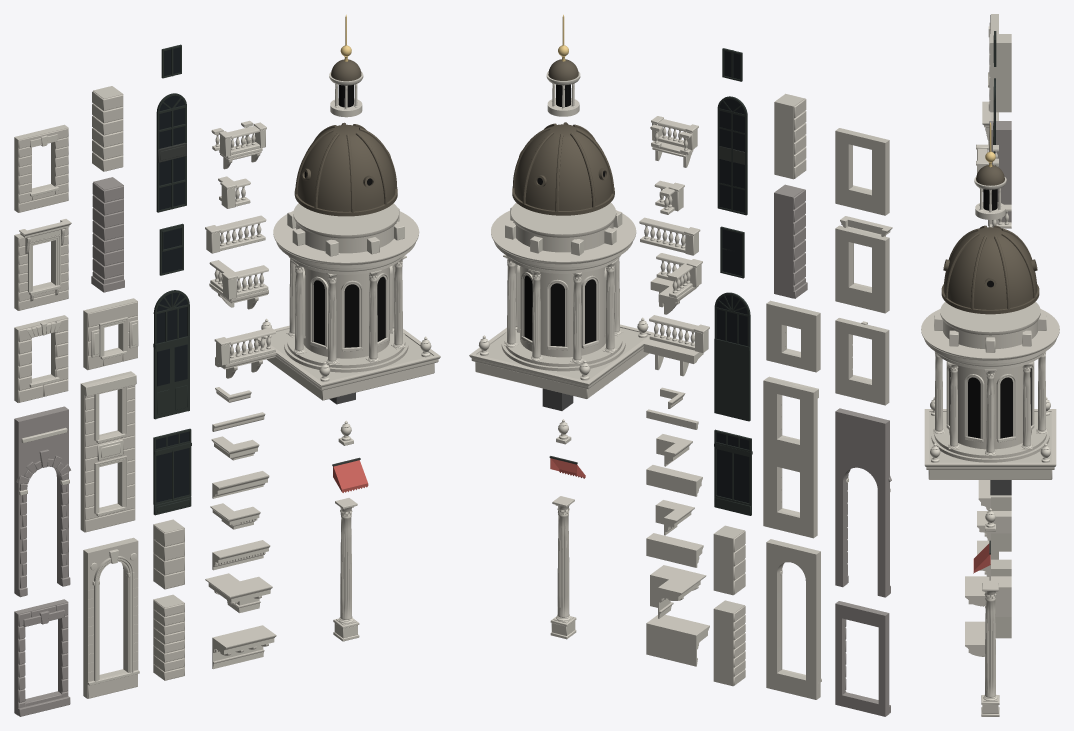
Rendered from gillender_kit.glb.
The picture shows the model from 3 angles, left to right: view 1: azimuth 30°, elevation 25°; view 2: azimuth 150°, elevation 25°; view 3: azimuth 270°, elevation 25°; orthographic projection. The views are drawn at different scales.
Visible parts, largest first — view 1: SM_Tempietto, SM_Dome, SM_Wall_Colonnade_2F, SM_Wall_Ground_Entrance, SM_Wall_Arch_2F, SM_Door_Entrance, SM_Wall_Win_Hood, SM_Wall_Ground_Shop, SM_Pier_Corner_Ground, SM_Wall_Win_Shaft, SM_Window_Arch_2F, SM_Wall_Base_Rustic (+20 smaller); view 2: SM_Tempietto, SM_Dome, SM_Wall_Colonnade_2F, SM_Wall_Ground_Entrance, SM_Wall_Arch_2F, SM_Door_Entrance, SM_Wall_Win_Hood, SM_Wall_Ground_Shop, SM_Pier_Corner_Ground, SM_Wall_Base_Rustic, SM_Wall_Win_Shaft, SM_Window_Arch_2F (+19 smaller); view 3: SM_Tempietto, SM_Dome, SM_Column_2F, SM_Pier_Corner_Rustic, SM_Lantern, SM_Cornice_Main_Corner, SM_Pier_Corner_Ground, SM_Pier_Corner_Shaft, SM_Pier_Corner_Attic, SM_Cornice_Main, SM_Cornice_Mid_Corner, SM_Balconette (+5 smaller).
Part boxes in pixels (bbox=[...]): SM_Tempietto: bbox=[254, 203, 440, 400]; SM_Dome: bbox=[294, 122, 397, 216]; SM_Wall_Colonnade_2F: bbox=[80, 371, 136, 532]; SM_Wall_Ground_Entrance: bbox=[14, 406, 70, 597]; SM_Wall_Arch_2F: bbox=[83, 537, 139, 698]; SM_Door_Entrance: bbox=[153, 290, 189, 419]; SM_Wall_Win_Hood: bbox=[14, 219, 71, 310]; SM_Wall_Ground_Shop: bbox=[14, 599, 70, 716]; SM_Pier_Corner_Ground: bbox=[91, 177, 124, 292]; SM_Wall_Win_Shaft: bbox=[14, 124, 68, 212]; SM_Window_Arch_2F: bbox=[156, 93, 186, 212]; SM_Wall_Base_Rustic: bbox=[14, 315, 68, 402]; SM_Tempietto: bbox=[469, 202, 654, 398]; SM_Dome: bbox=[512, 122, 614, 215]; SM_Wall_Colonnade_2F: bbox=[763, 376, 818, 538]; SM_Wall_Ground_Entrance: bbox=[835, 408, 891, 597]; SM_Wall_Arch_2F: bbox=[766, 539, 821, 699]; SM_Door_Entrance: bbox=[714, 292, 750, 421]; SM_Wall_Win_Hood: bbox=[835, 216, 892, 313]; SM_Wall_Ground_Shop: bbox=[835, 601, 890, 716]; SM_Pier_Corner_Ground: bbox=[774, 184, 807, 298]; SM_Wall_Base_Rustic: bbox=[835, 318, 889, 405]; SM_Wall_Win_Shaft: bbox=[835, 128, 889, 215]; SM_Window_Arch_2F: bbox=[717, 96, 747, 215]; SM_Tempietto: bbox=[921, 302, 1059, 479]; SM_Dome: bbox=[941, 225, 1039, 314]; SM_Column_2F: bbox=[981, 582, 999, 716]; SM_Pier_Corner_Rustic: bbox=[989, 34, 1011, 112]; SM_Lantern: bbox=[974, 122, 1006, 219]; SM_Cornice_Main_Corner: bbox=[965, 576, 1011, 616]; SM_Pier_Corner_Ground: bbox=[988, 121, 1011, 225]; SM_Pier_Corner_Shaft: bbox=[991, 559, 1011, 638]; SM_Pier_Corner_Attic: bbox=[991, 495, 1011, 551]; SM_Cornice_Main: bbox=[965, 621, 985, 656]; SM_Cornice_Mid_Corner: bbox=[977, 511, 1011, 540]; SM_Balconette: bbox=[976, 144, 998, 191].
Size of the model in its own units: 20.22 by 31 by 6.52.
